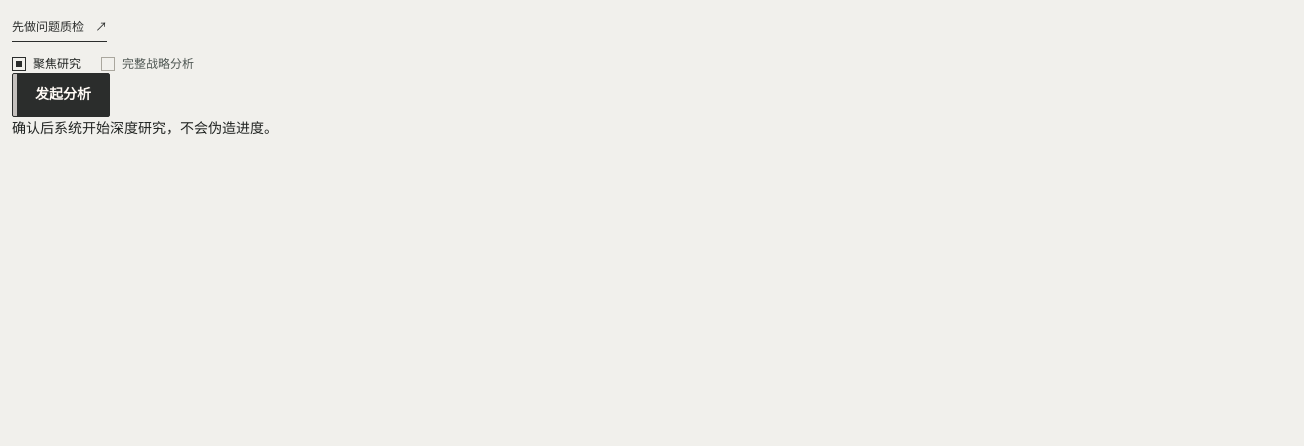
Test: lens-only block shows system-side guidance instead of the dossier hint
Click the button "发起分析".
click(61, 95)  # box [12, 73, 110, 117]
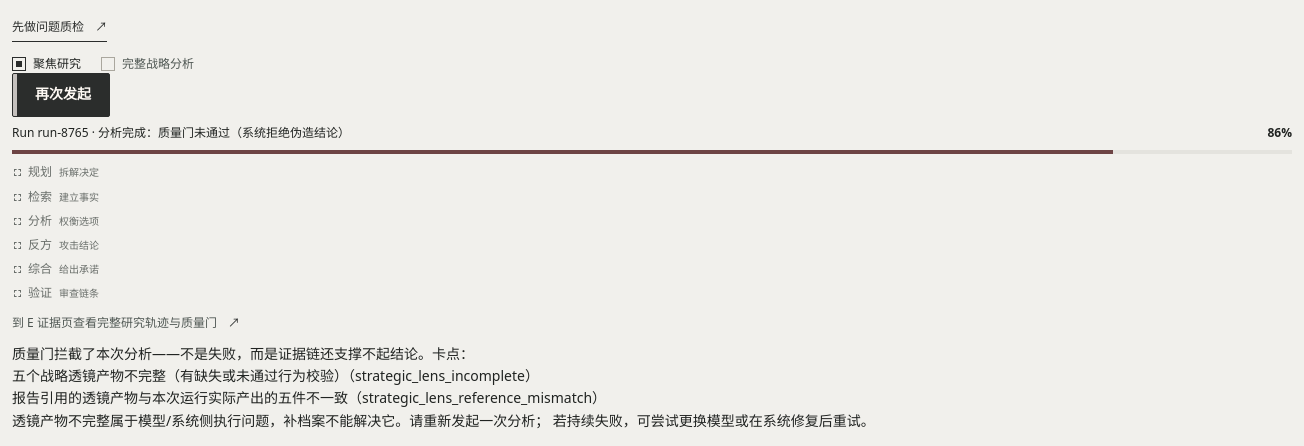
Expected: the element that starts with "质量门拦截了本次分析——不是失败，而是证据链还支撑不起结论。卡点：" does not show "回到 Q 区", [12, 344, 875, 430]
Result: the element that starts with "质量门拦截了本次分析——不是失败，而是证据链还支撑不起结论。卡点：" is shown at [12, 344, 875, 430]
Result: the element that starts with "质量门拦截了本次分析——不是失败，而是证据链还支撑不起结论。卡点：" shows "透镜产物不完整属于模型/系统侧执行问题" at [12, 411, 875, 430]
